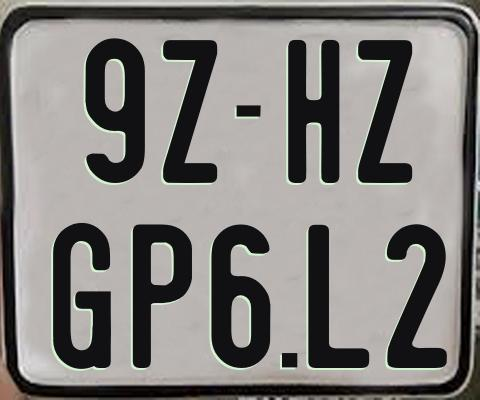2: (384, 223, 447, 369)
6: (211, 223, 276, 368)
9: (82, 38, 147, 184)
G: (52, 221, 110, 373)
H: (288, 38, 346, 181)
L: (308, 223, 374, 370)
P: (133, 221, 195, 365)
Z: (357, 40, 415, 187), (162, 37, 219, 182)
